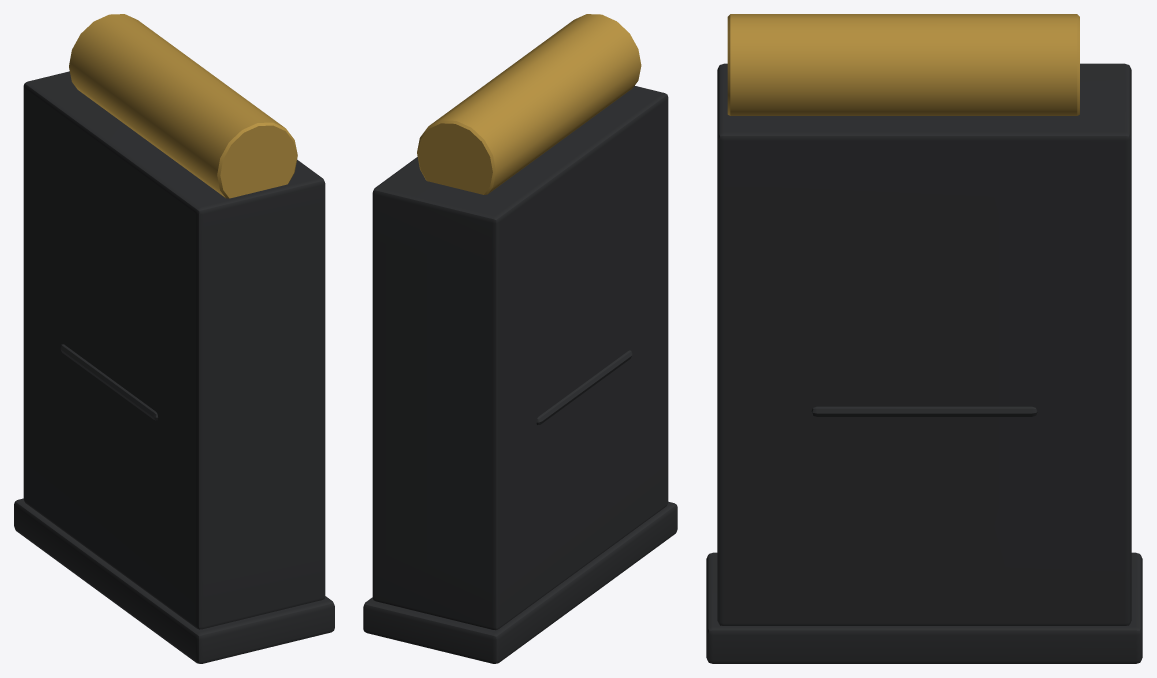
The model's file is mod_brute_box_8.glb.
3 renders of one model, left to right at view 1: azimuth 30°, elevation 25°; view 2: azimuth 150°, elevation 25°; view 3: azimuth 270°, elevation 25°, orthographic. The views are drawn at different scales.
Visible parts, largest first — view 1: BoxMagazine, BoxMagazineRound; view 2: BoxMagazine, BoxMagazineRound; view 3: BoxMagazine, BoxMagazineRound.
Boxes of the visible parts, x1,y1,x2,y2 form: BoxMagazine: [14, 71, 334, 663]; BoxMagazineRound: [69, 14, 297, 198]; BoxMagazine: [363, 86, 677, 663]; BoxMagazineRound: [417, 14, 641, 194]; BoxMagazine: [706, 63, 1142, 663]; BoxMagazineRound: [727, 14, 1079, 115].
Size of the model in its own units: 0.0344 by 0.123 by 0.08.
